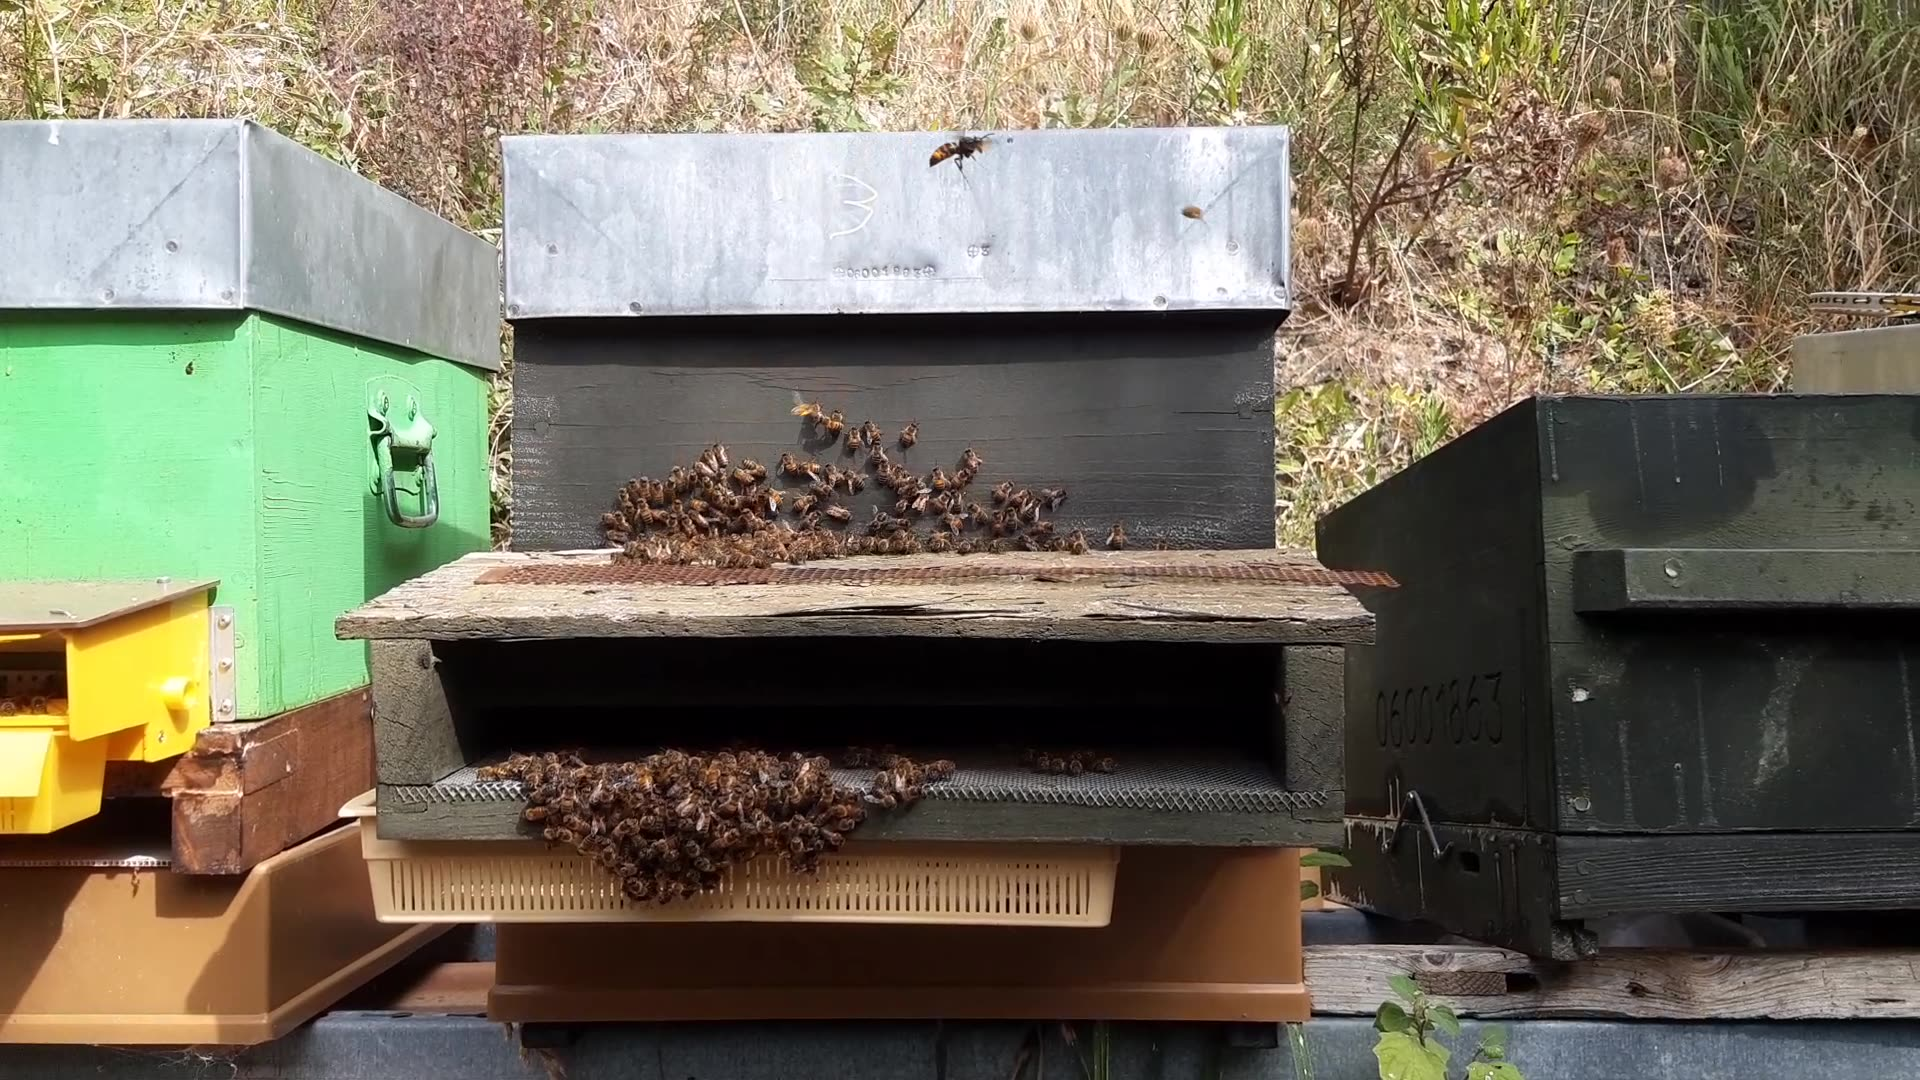bee: (633, 822, 723, 899), (719, 737, 818, 789), (832, 501, 915, 549), (727, 467, 793, 525), (1021, 496, 1091, 550), (485, 754, 564, 802), (630, 742, 719, 785), (516, 799, 578, 858), (611, 505, 683, 553), (1311, 266, 1371, 322), (936, 516, 1015, 558), (647, 465, 712, 513), (935, 465, 1000, 513), (808, 415, 872, 463), (843, 473, 903, 521)
